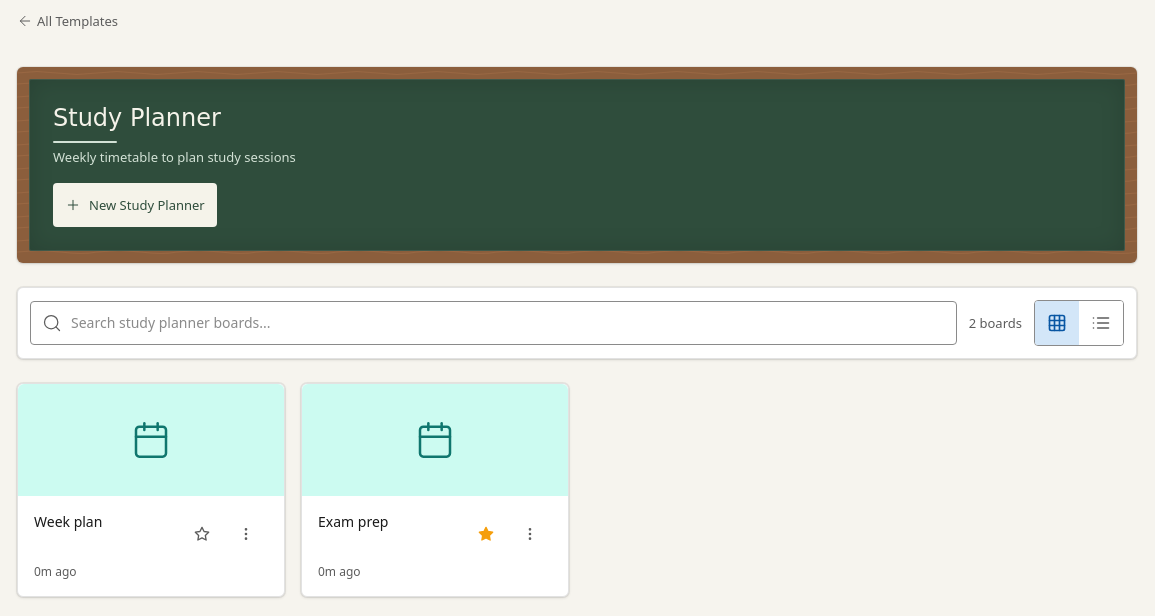
Test: TemplateBoardsPage › a search with no match shows the empty note; the create button is hidden while searching
The width and height of the screenshot is (1155, 616).
Check: the heading "Week plan" is shown, box [34,512,102,532]
Type "xyz" into the field labelled "Search study planner boards" at (493, 323), box [30,301,957,345]
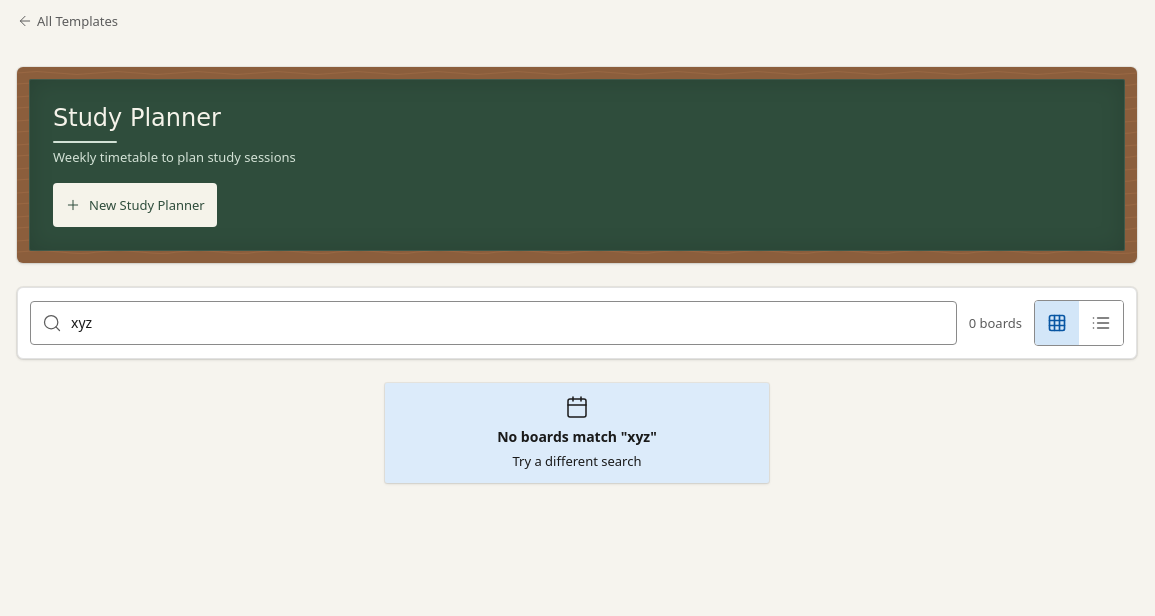
Check: the heading "No boards match \"xyz\"" is shown, box [497,427,657,447]
